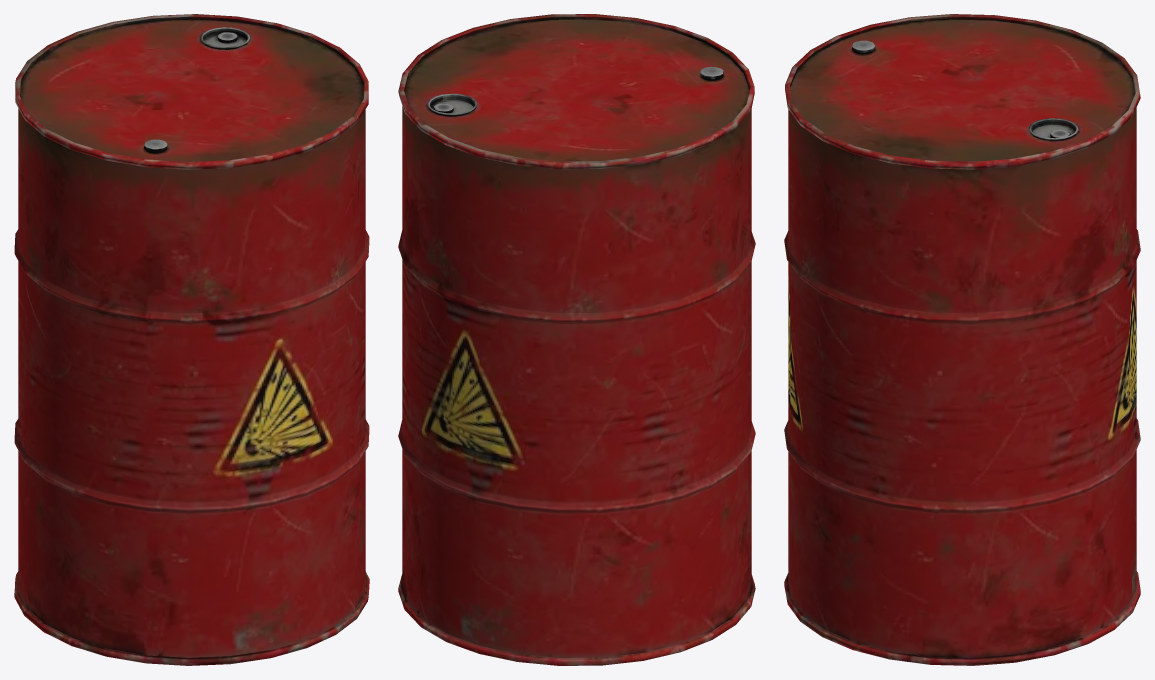
The model's file is Barrel_01.glb.
3 renders of one model, left to right at view 1: azimuth 30°, elevation 25°; view 2: azimuth 150°, elevation 25°; view 3: azimuth 270°, elevation 25°, orthographic.
Parts seen in each view (by area): view 1: Barrel_01; view 2: Barrel_01; view 3: Barrel_01.
Boxes of the visible parts, left/top/right/bottom form: Barrel_01: left=14, top=14, right=369, bottom=665; Barrel_01: left=398, top=14, right=755, bottom=665; Barrel_01: left=784, top=14, right=1140, bottom=665.
Bounding box in the file's own units: 0.5631 × 0.88 × 0.5631.
1 material, 1 textured.
